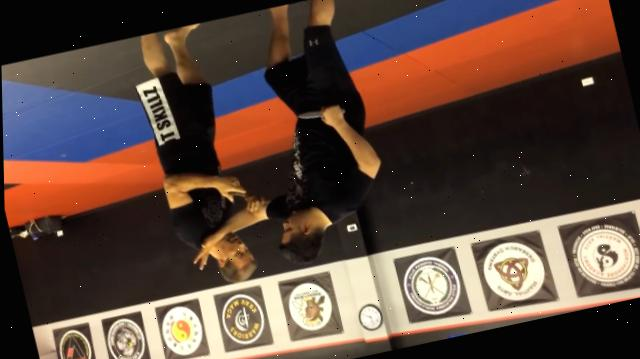pocket-knife: (294, 99, 348, 126)
